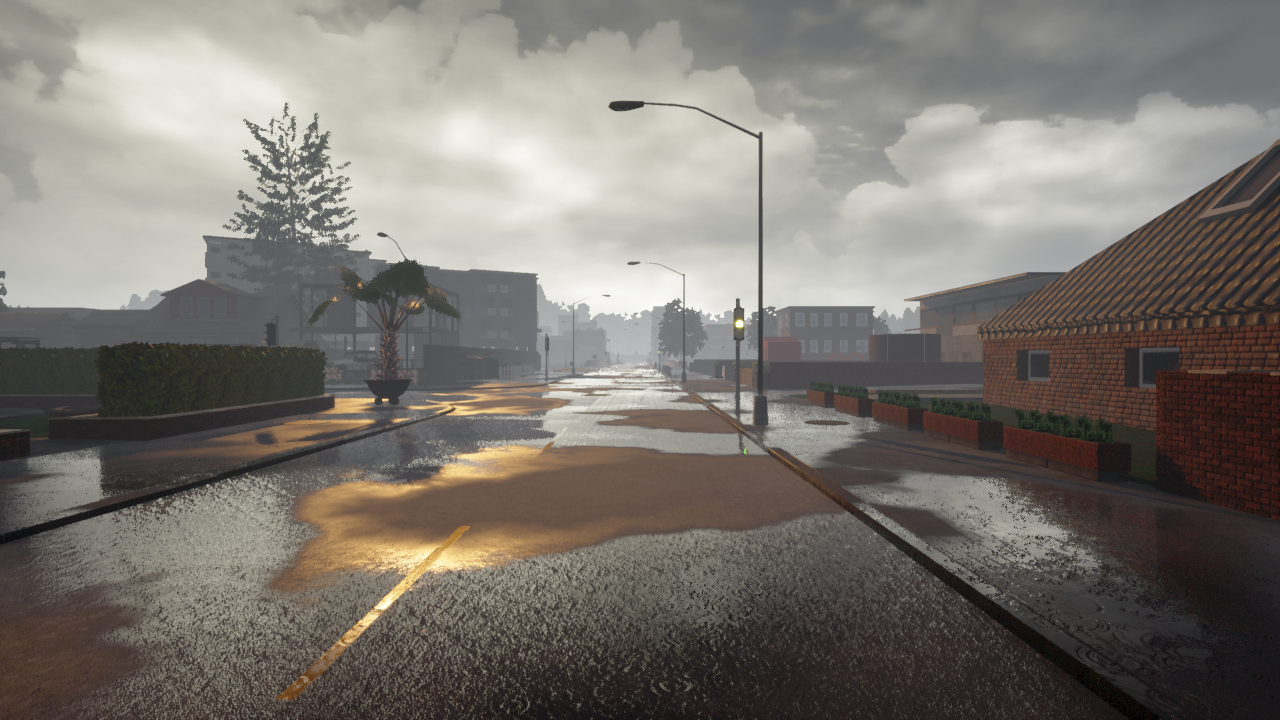yellow: (733, 305, 743, 344)
